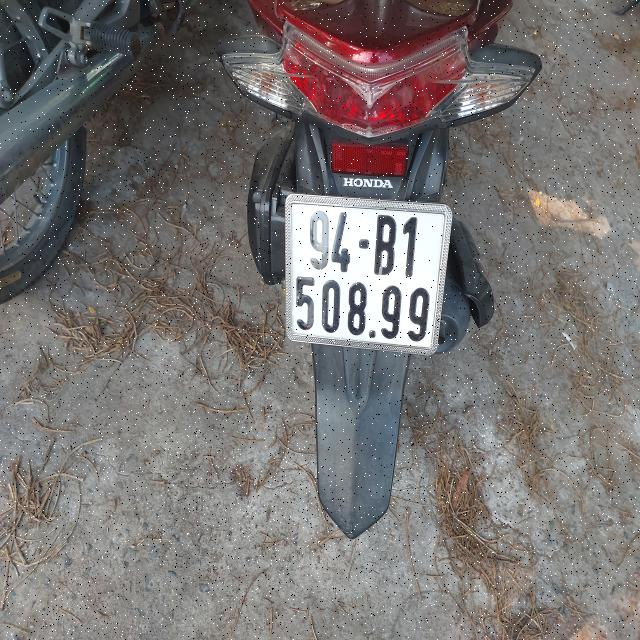0: (321, 277, 344, 335)
1: (403, 215, 418, 278)
4: (333, 212, 350, 272)
5: (295, 272, 316, 330)
8: (349, 278, 368, 338)
9: (406, 285, 432, 340), (381, 280, 402, 343), (309, 208, 329, 271)
B: (376, 213, 395, 274)
